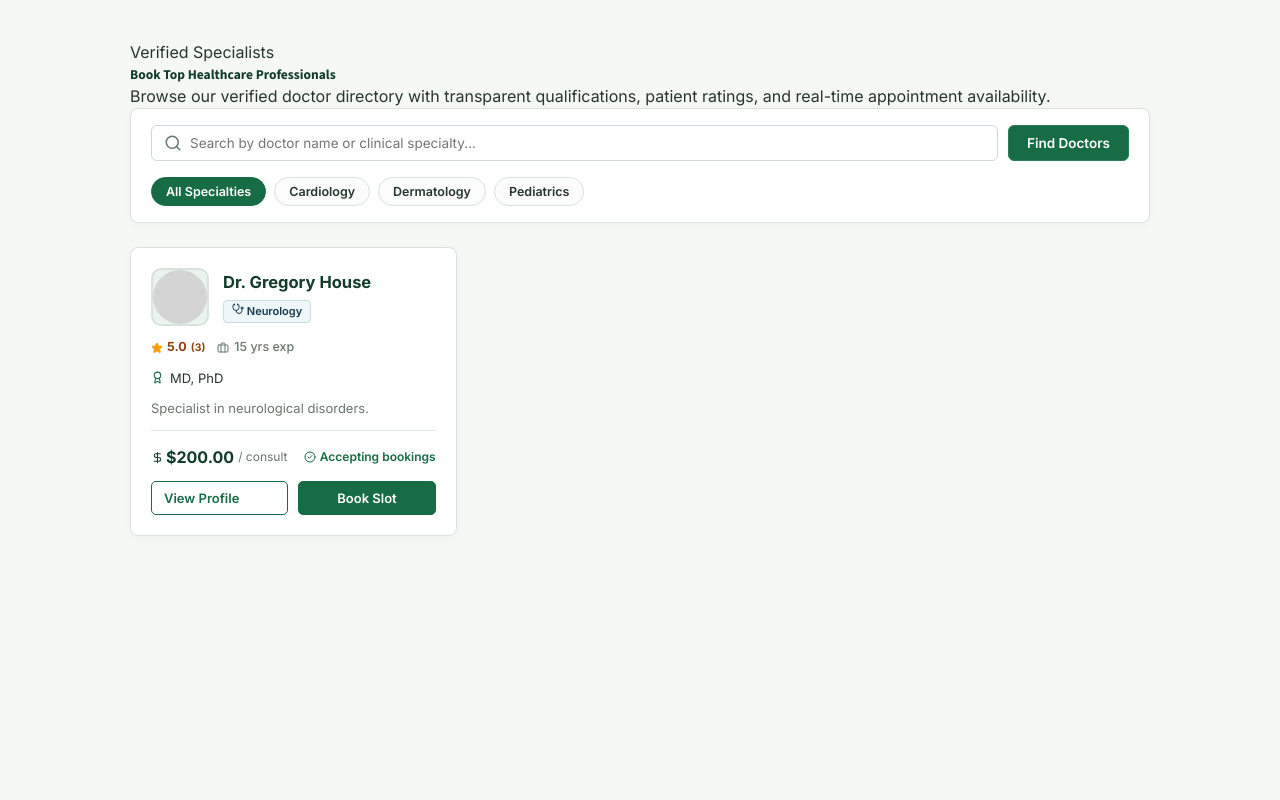
DoctorDirectory Component › fetches single doctor profile and opens modal when View Profile is clicked
Expected: the heading "Dr. Gregory House" is shown, [223,272,371,292]
Click the button "View Profile".
click(220, 498)  # box [151,481,288,515]
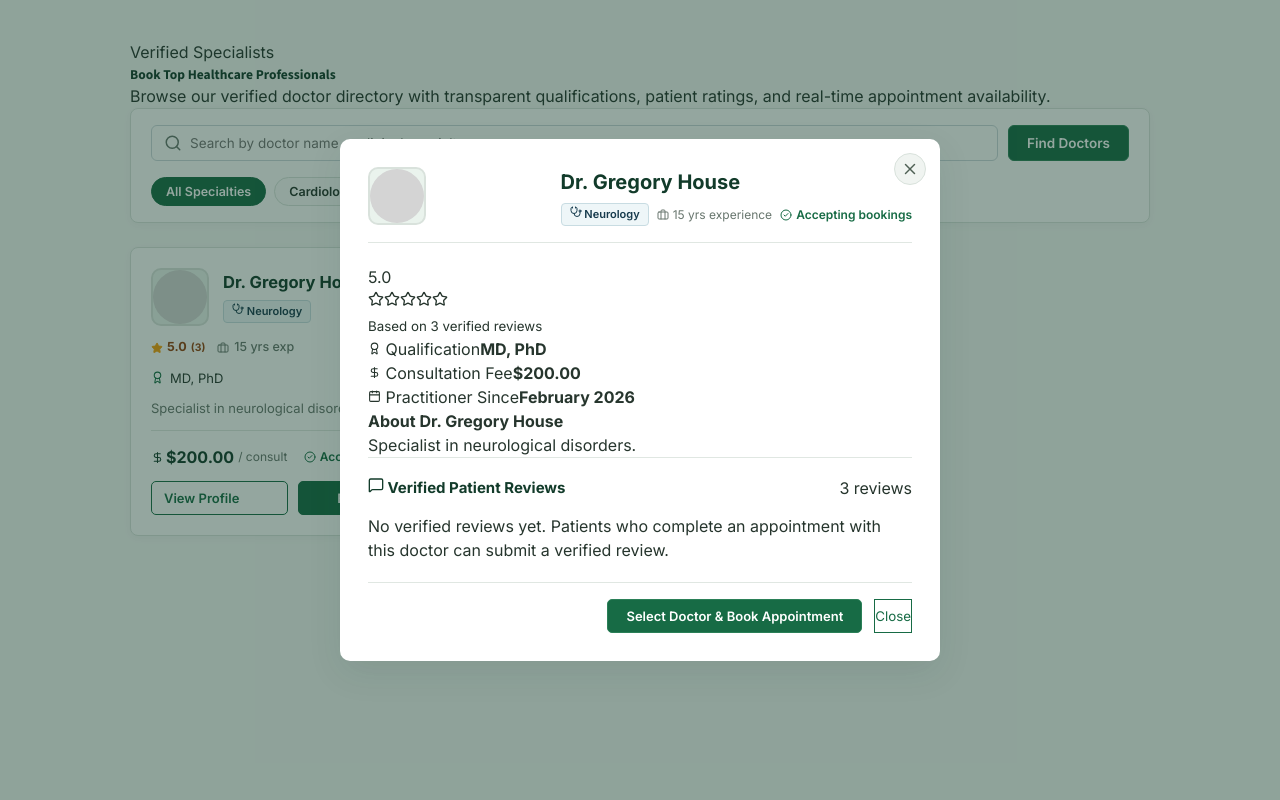
Expected: the dialog is shown
Expected: the heading "About Dr. Gregory House" is shown, [368,411,563,431]
Click the button named "close profile modal".
click(910, 169)  # box [894,153,926,185]
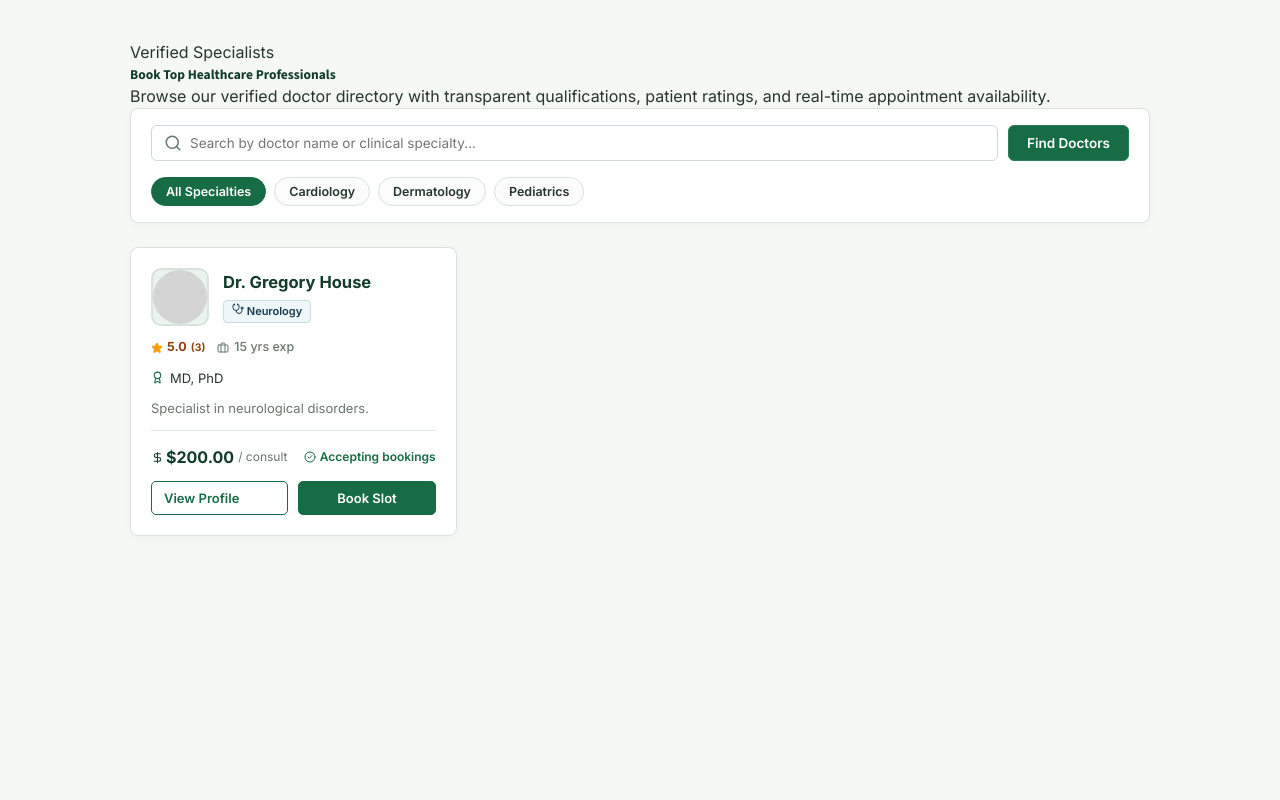
Expected: the dialog is gone
